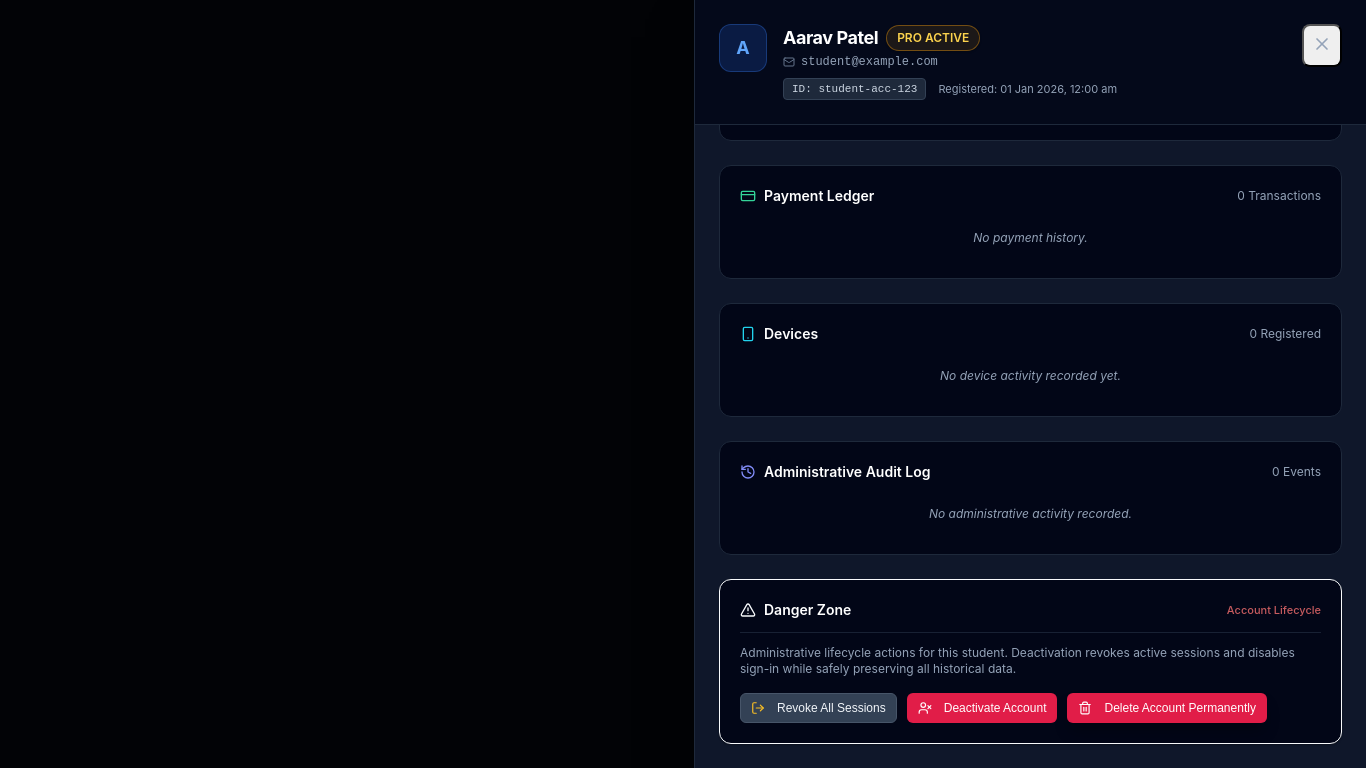
Test case: Student Account Lifecycle Modals & Danger Zone Tests › 7. Danger Zone Button Opens Corresponding Modal › clicking Revoke All Sessions opens RevokeAllSessionsModal
This screenshot has width=1366, height=768.
(page scrolled)
Click the button "Revoke All Sessions" at (818, 708), box x1=740 y1=693 x2=897 y2=723
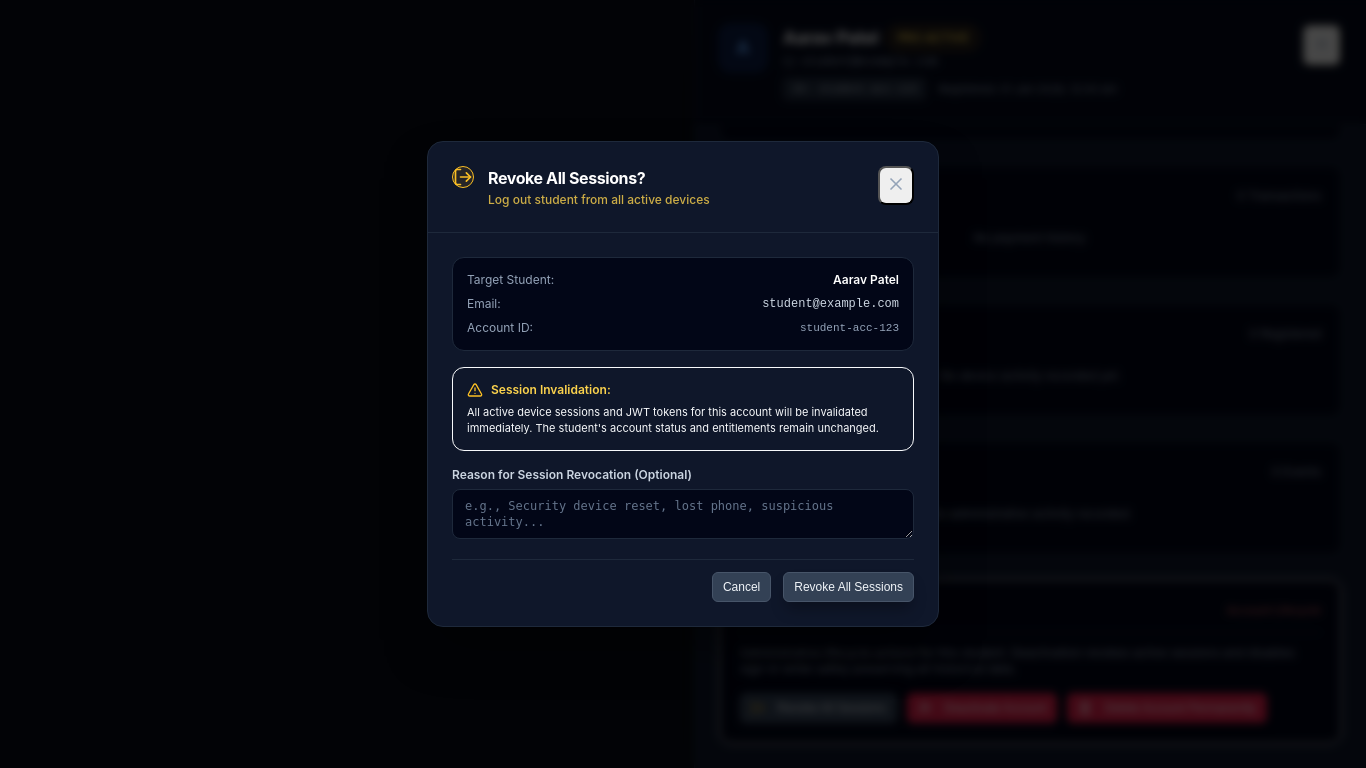
Expected: the heading "Revoke All Sessions?" is shown, x1=488 y1=168 x2=645 y2=188
